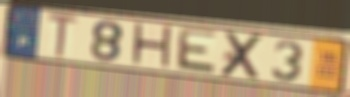3: (270, 40, 306, 84)
8: (89, 19, 124, 63)
E: (172, 26, 219, 77)
H: (129, 20, 175, 73)
T: (46, 11, 81, 61)
X: (217, 30, 268, 81)
